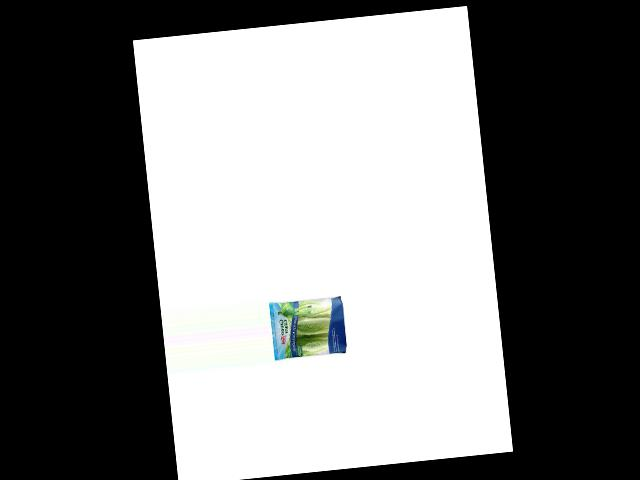lettuce: (272, 293, 350, 360)
